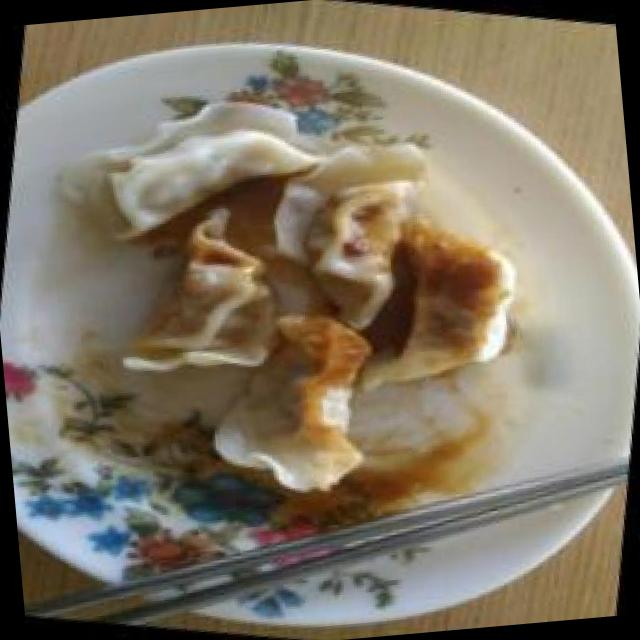fried_dumplings: (14, 51, 567, 549)
